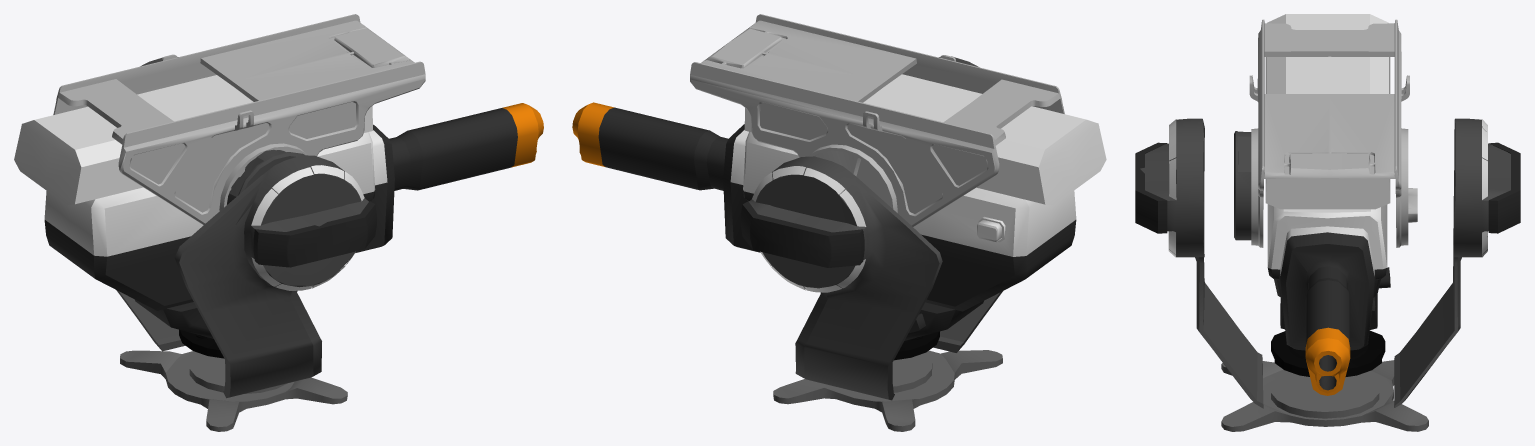
The model's file is gimbal.gltf.
3 renders of one model, left to right at view 1: azimuth 30°, elevation 25°; view 2: azimuth 150°, elevation 25°; view 3: azimuth 270°, elevation 25°, orthographic. The views are drawn at different scales.
Visible parts, largest first — view 1: blaster_top, blaster_gun, gimbal_right_armor, blaster_magazin, gimbal_base, gimbal_side, gimbal_left_armor, speaker, blaster_bug; view 2: blaster_top, blaster_gun, gimbal_left_armor, blaster_magazin, gimbal_base, gimbal_side, gimbal_right_armor, speaker, gimbal_left_led; view 3: blaster_top, blaster_gun, gimbal_base, blaster_magazin, gimbal_right_armor, gimbal_left_armor, gimbal_side, blaster_bug, speaker.
Part boxes in pixels (x1=…): blaster_top: x1=53, y1=14, x2=425, y2=225; blaster_gun: x1=44, y1=103, x2=543, y2=310; gimbal_right_armor: x1=174, y1=155, x2=368, y2=398; blaster_magazin: x1=14, y1=75, x2=372, y2=205; gimbal_base: x1=120, y1=329, x2=347, y2=431; gimbal_side: x1=253, y1=201, x2=376, y2=267; gimbal_left_armor: x1=116, y1=57, x2=185, y2=351; speaker: x1=134, y1=299, x2=213, y2=338; blaster_bug: x1=227, y1=149, x2=304, y2=204; blaster_top: x1=690, y1=14, x2=1064, y2=226; blaster_gun: x1=572, y1=102, x2=1076, y2=311; gimbal_left_armor: x1=749, y1=156, x2=942, y2=400; blaster_magazin: x1=744, y1=74, x2=1106, y2=205; gimbal_base: x1=773, y1=331, x2=1002, y2=431; gimbal_side: x1=741, y1=201, x2=864, y2=267; gimbal_right_armor: x1=933, y1=56, x2=1002, y2=352; speaker: x1=904, y1=301, x2=983, y2=340; gimbal_left_led: x1=771, y1=168, x2=866, y2=292; blaster_top: x1=1249, y1=19, x2=1417, y2=247; blaster_gun: x1=1267, y1=204, x2=1387, y2=395; gimbal_base: x1=1221, y1=330, x2=1428, y2=431; blaster_magazin: x1=1265, y1=14, x2=1390, y2=209; gimbal_right_armor: x1=1140, y1=118, x2=1263, y2=408; gimbal_left_armor: x1=1394, y1=118, x2=1510, y2=407; gimbal_side: x1=1135, y1=142, x2=1520, y2=233; blaster_bug: x1=1234, y1=131, x2=1251, y2=240; speaker: x1=1280, y1=267, x2=1390, y2=329.
Bounding box in the file's own units: 0.2622 × 0.1534 × 0.1728.
